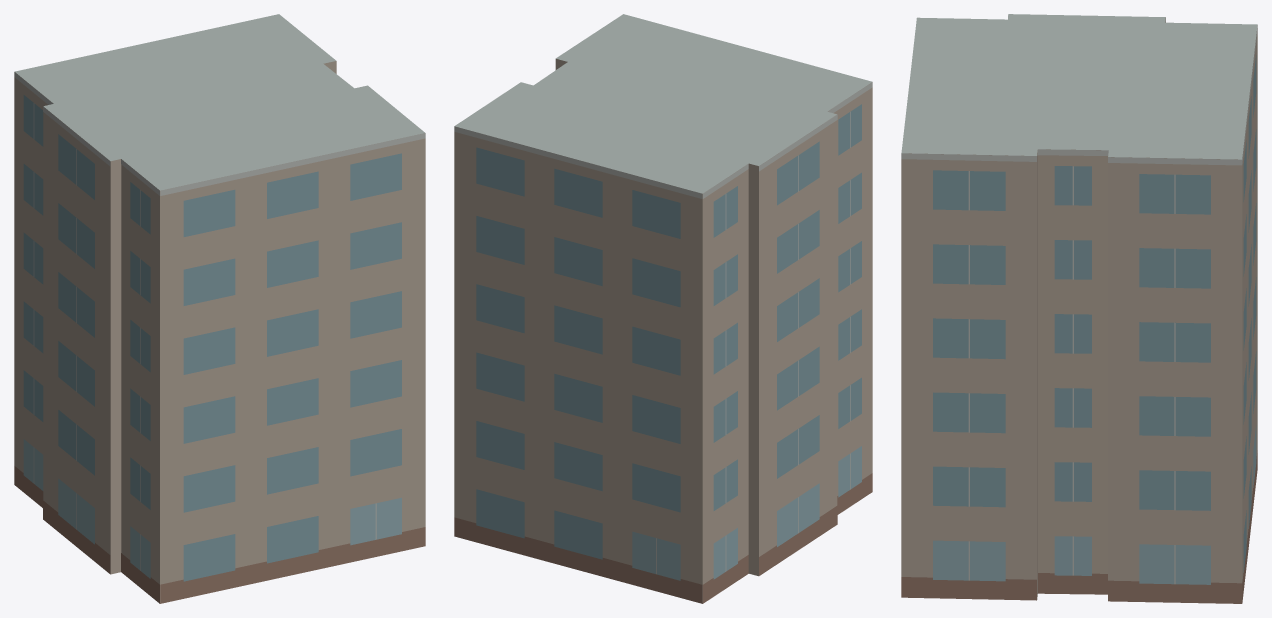
Rendered from survey-upis-32654382.glb.
The picture shows the model from 3 angles, left to right: view 1: azimuth 30°, elevation 25°; view 2: azimuth 150°, elevation 25°; view 3: azimuth 270°, elevation 25°; orthographic projection. The views are drawn at different scales.
Parts seen in each view (by area): view 1: survey-upis-32654382.tmp; view 2: survey-upis-32654382.tmp; view 3: survey-upis-32654382.tmp.
Boxes of the visible parts, x1,y1,x2,y2 form: survey-upis-32654382.tmp: (14,14,425,603); survey-upis-32654382.tmp: (454,14,872,603); survey-upis-32654382.tmp: (901,14,1257,603).
Bounding box in the file's own units: 12.86 × 18.3 × 13.3.
